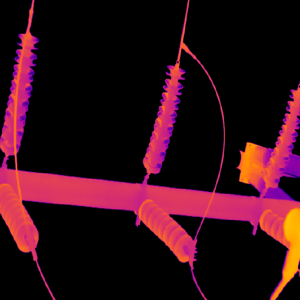insulator: (142, 65, 186, 176), (0, 31, 38, 156), (136, 196, 195, 263), (262, 88, 300, 185), (0, 181, 36, 253)
